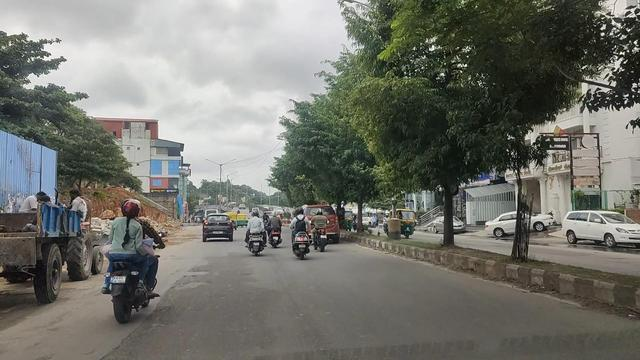LMV: (101, 200, 165, 307), (204, 211, 231, 241), (293, 208, 308, 255), (310, 211, 327, 251), (267, 208, 283, 249), (250, 209, 263, 255)
RoadDamages: (69, 313, 179, 358), (176, 256, 216, 296)
